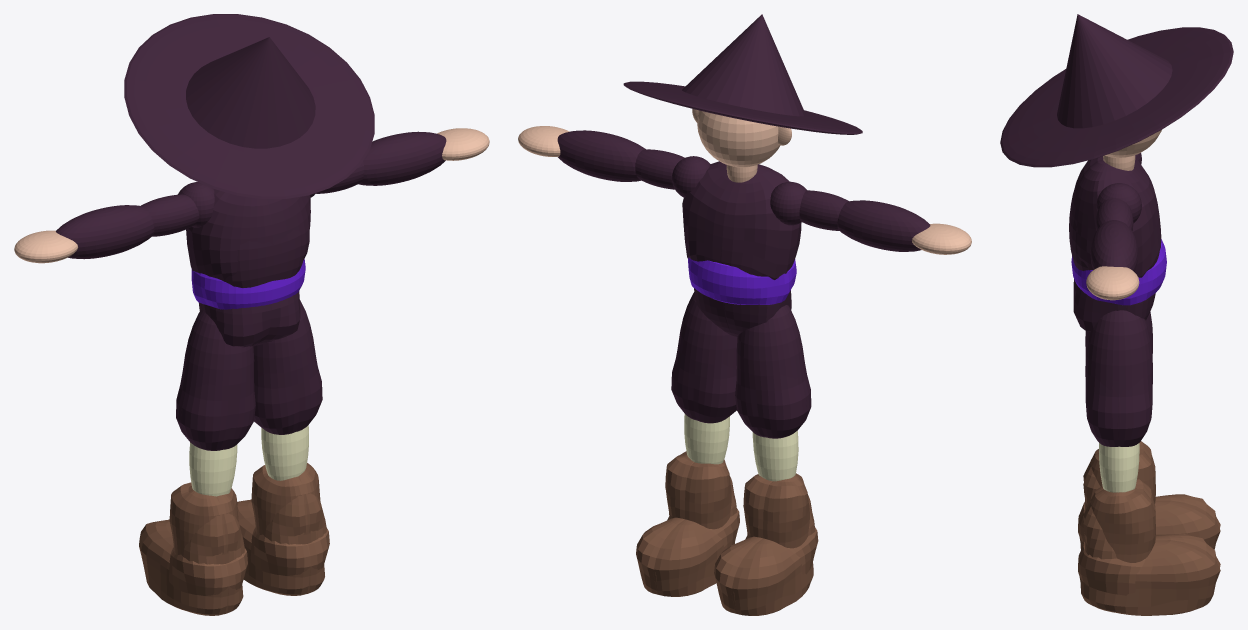
Rendered from mage_tpose.fbx.
The picture shows the model from 3 angles, left to right: view 1: azimuth 30°, elevation 25°; view 2: azimuth 150°, elevation 25°; view 3: azimuth 270°, elevation 25°; orthographic projection. The views are drawn at different scales.
Parts seen in each view (by area): view 1: Sphere.009, lboot, Cone, rboot, chest, lthigh, rthigh, Sphere.006, Sphere.002, torso, belt, lcalf (+5 smaller); view 2: lboot, rboot, chest, lthigh, Cone, rthigh, Sphere.006, Sphere.009, belt, head, Sphere.002, torso (+8 smaller); view 3: rboot, Sphere.009, Cone, rthigh, chest, lboot, Sphere.002, rcalf, torso, belt, Sphere.003, Sphere (+3 smaller).
Part boxes in pixels (x1,y1,x2,y2): Sphere.009: [124, 14, 374, 198]; lboot: [139, 482, 247, 615]; Cone: [186, 37, 315, 148]; rboot: [237, 463, 329, 595]; chest: [186, 189, 310, 287]; lthigh: [176, 310, 255, 450]; rthigh: [253, 299, 322, 434]; Sphere.006: [56, 205, 154, 259]; Sphere.002: [358, 131, 446, 185]; torso: [199, 291, 300, 347]; belt: [191, 259, 305, 309]; lcalf: [189, 442, 237, 496]; lboot: [714, 473, 818, 615]; rboot: [636, 451, 739, 596]; chest: [682, 161, 801, 279]; lthigh: [735, 305, 811, 438]; Cone: [682, 14, 805, 116]; rthigh: [671, 292, 737, 423]; Sphere.006: [837, 200, 930, 251]; Sphere.009: [623, 81, 862, 134]; belt: [688, 257, 796, 304]; head: [697, 110, 780, 167]; Sphere.002: [557, 130, 646, 181]; torso: [694, 288, 791, 337]; rboot: [1078, 479, 1220, 615]; Sphere.009: [1000, 27, 1233, 167]; Cone: [1057, 14, 1172, 128]; rthigh: [1085, 310, 1152, 446]; chest: [1069, 156, 1161, 277]; lboot: [1078, 441, 1220, 549]; Sphere.002: [1090, 220, 1137, 271]; rcalf: [1099, 443, 1139, 492]; torso: [1073, 279, 1155, 331]; belt: [1071, 239, 1166, 305]; Sphere.003: [1086, 266, 1139, 300]; Sphere: [1096, 183, 1141, 223].
Bounding box in the file's own units: 1588 × 1860 × 691.
